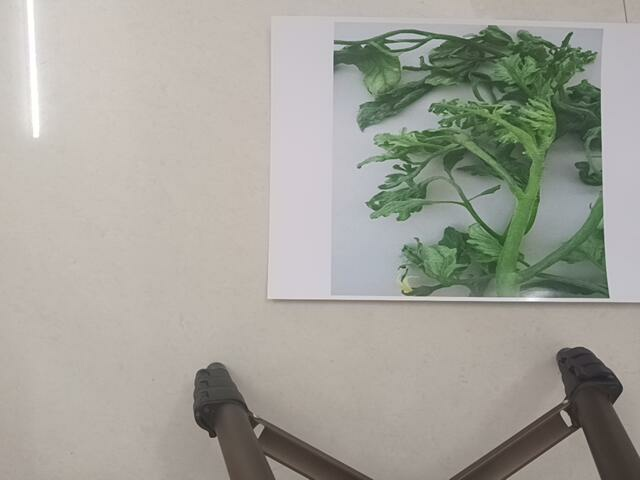Tomamto_Mosaic_virus: (336, 28, 611, 296)
